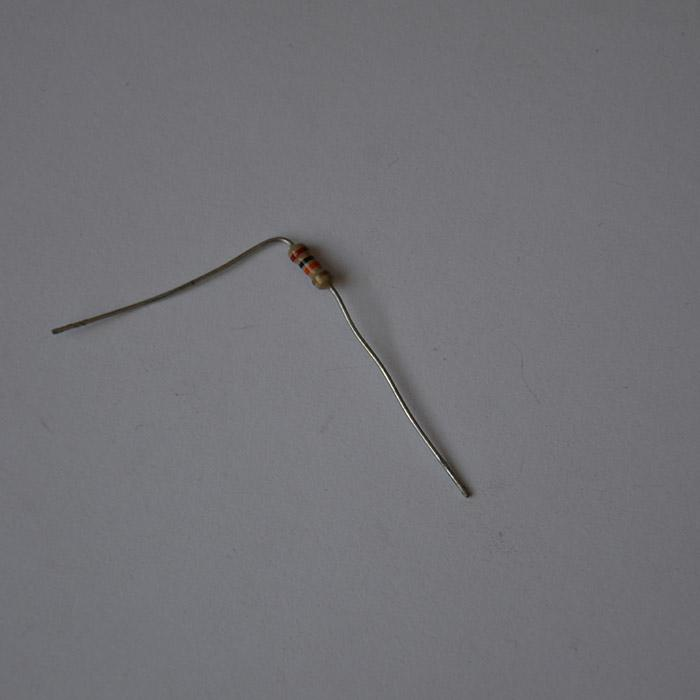resistor: (287, 241, 330, 290)
